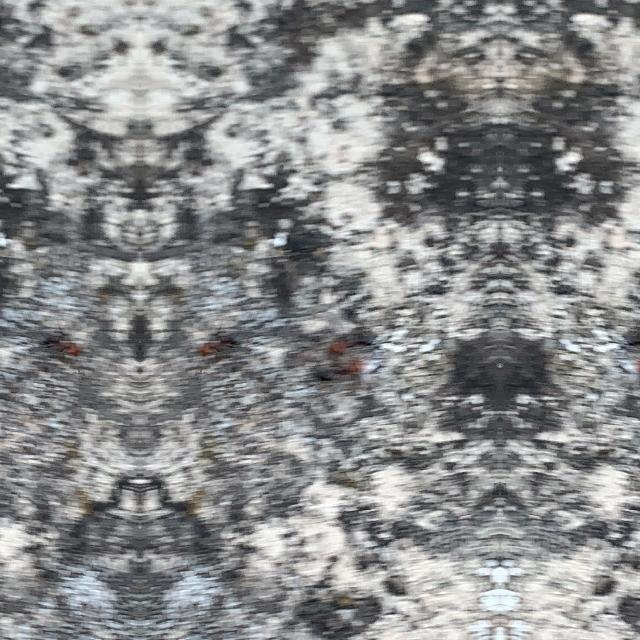Crematogaster: (308, 350, 364, 390), (320, 320, 380, 354), (192, 329, 248, 363), (32, 329, 88, 363), (620, 320, 640, 354)
